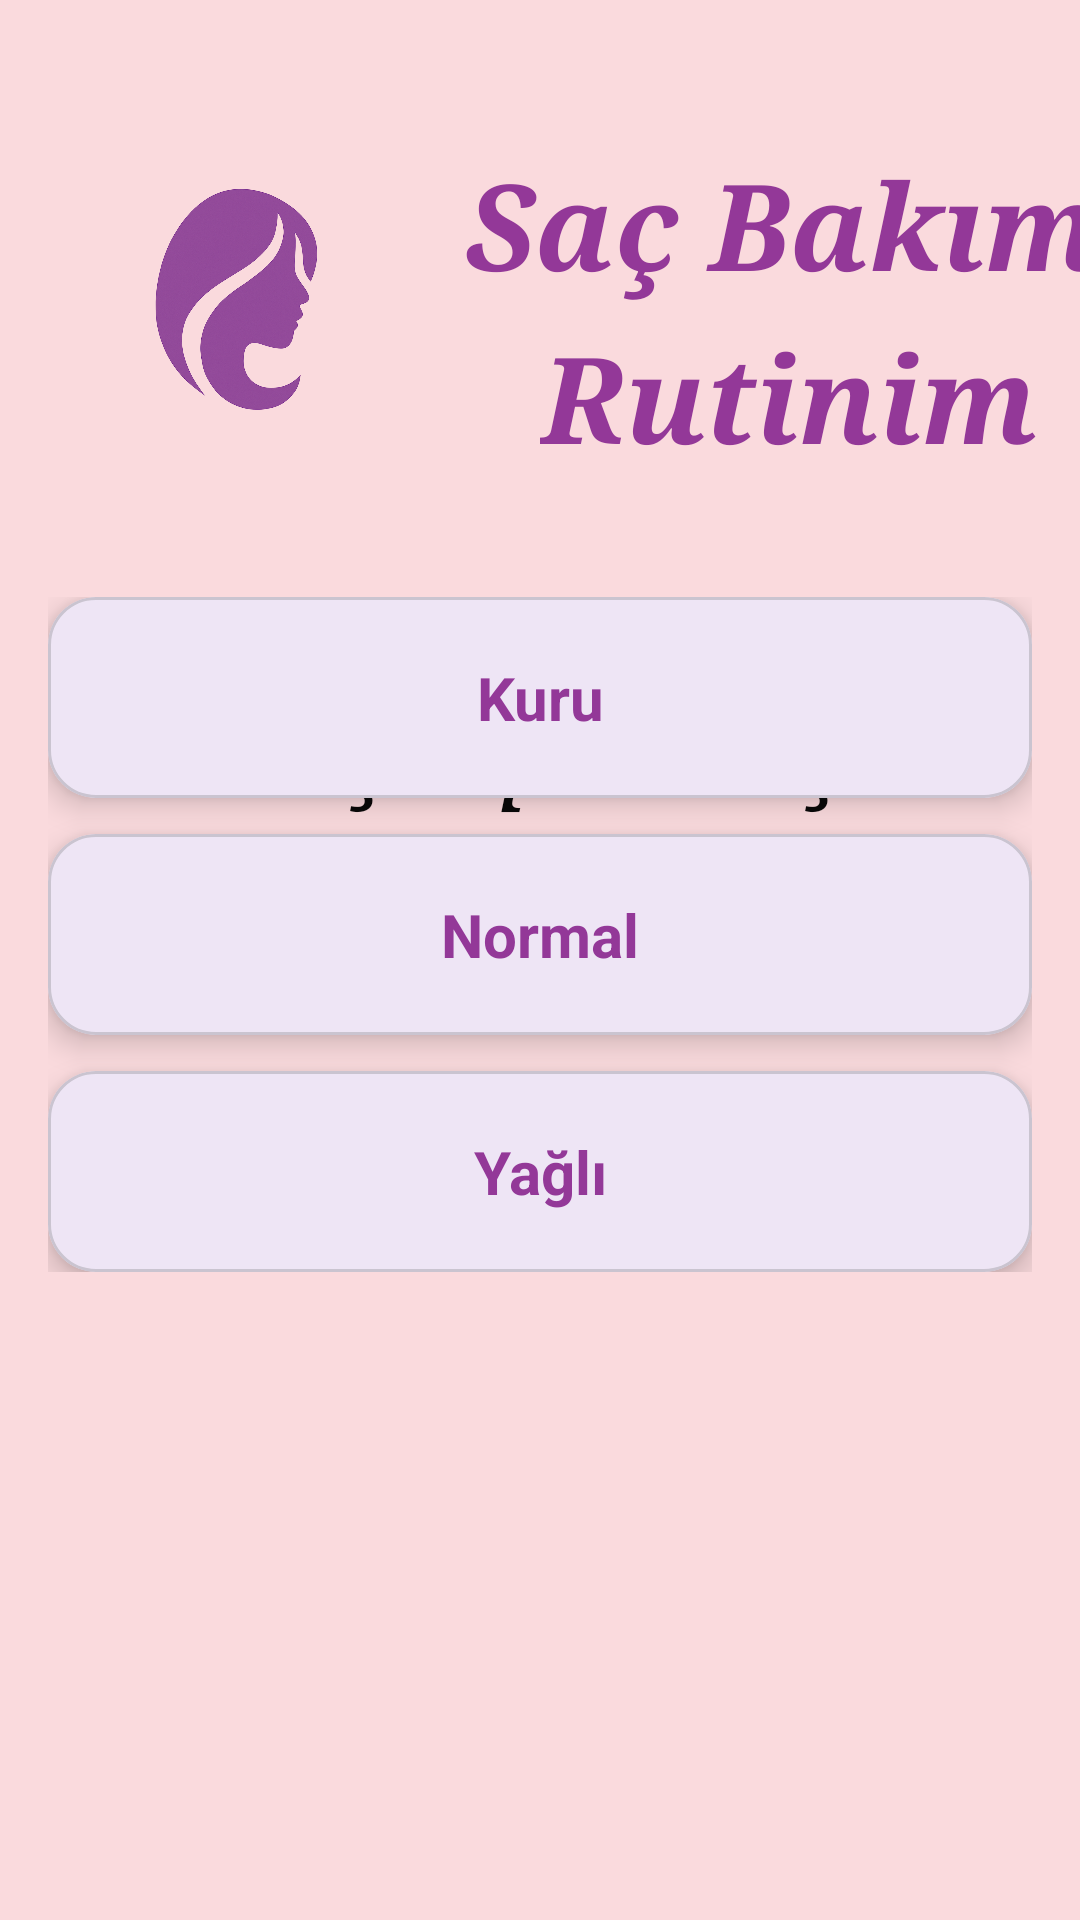

Locate icon controls on the screen. Image size 1080px x 1920px, boxes as bbox=[x1, y1, x2, y2].
resim: bbox=[155, 189, 317, 410]
